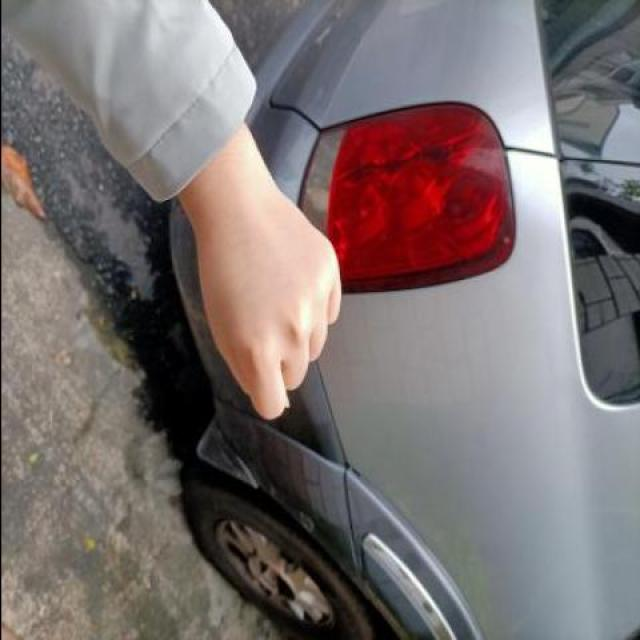Closed Hand: (169, 174, 371, 425)
